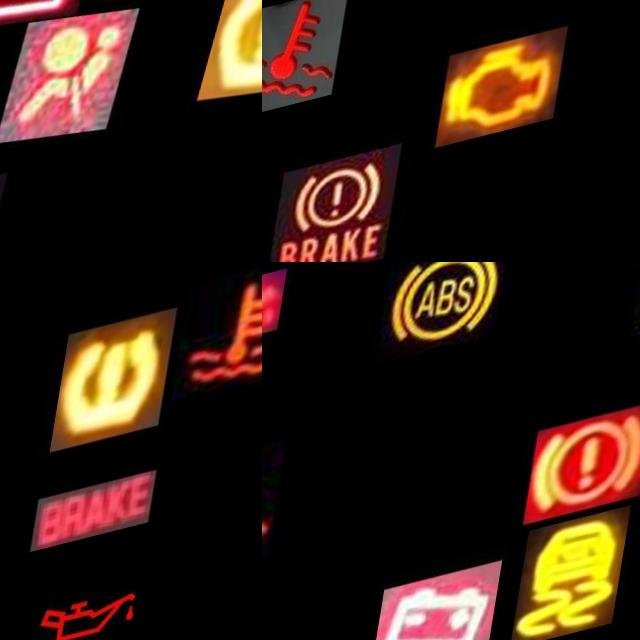Engine cooling system: (262, 6, 359, 138), (183, 288, 262, 430), (262, 446, 300, 588), (105, 0, 253, 34)
